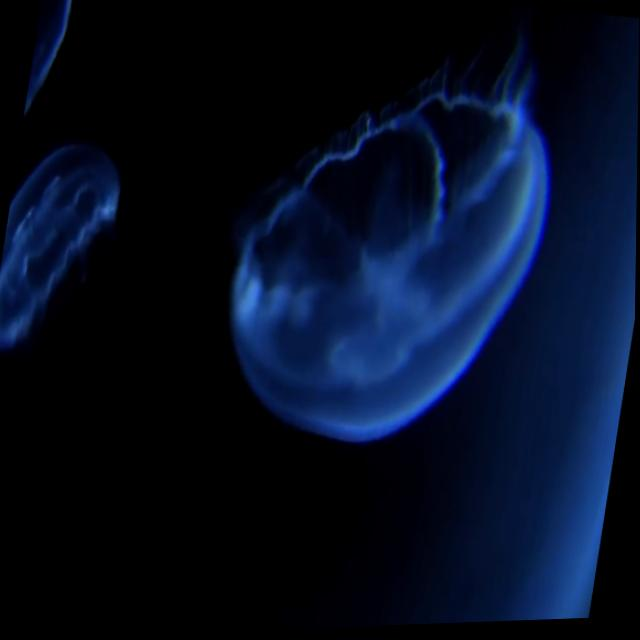Moon-jellyfish: (231, 27, 550, 444)
